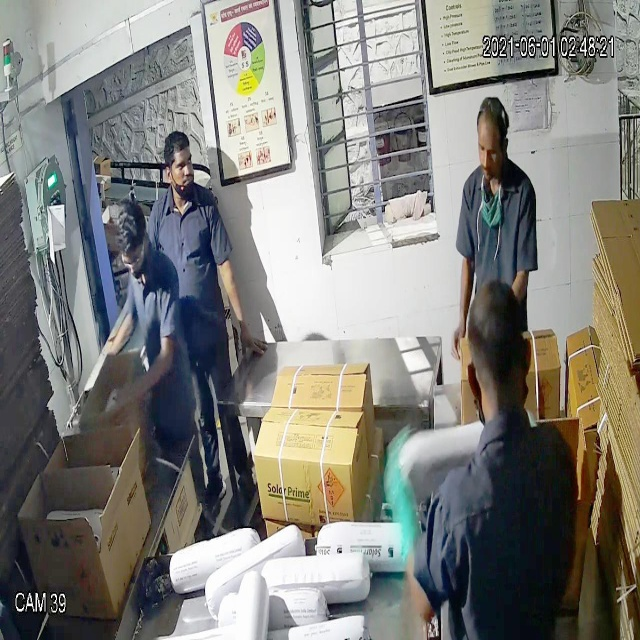Gafas: (114, 244, 151, 277)
Sin_gafas: (160, 151, 200, 181), (474, 137, 508, 168)
